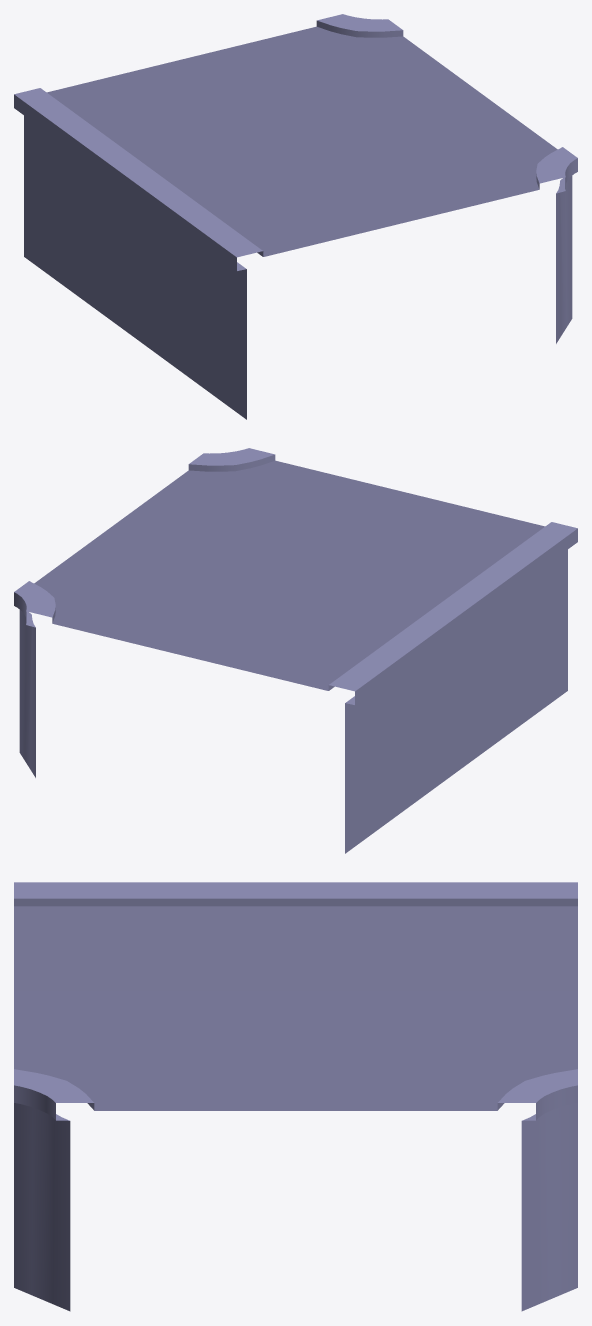
The model's file is Wall_Outside_Corner_x2.fbx.
3 views of the same model, one above another, from view 1: azimuth 30°, elevation 25°; view 2: azimuth 150°, elevation 25°; view 3: azimuth 270°, elevation 25° (orthographic). The views are drawn at different scales.
Parts seen in each view (by area): view 1: Wall_Outside_Corner_x2; view 2: Wall_Outside_Corner_x2; view 3: Wall_Outside_Corner_x2.
Part boxes in pixels (bbox=[...]): Wall_Outside_Corner_x2: bbox=[14, 14, 577, 419]; Wall_Outside_Corner_x2: bbox=[14, 448, 577, 853]; Wall_Outside_Corner_x2: bbox=[14, 882, 577, 1311].
Bounding box in the file's own units: 232 × 102 × 250.
